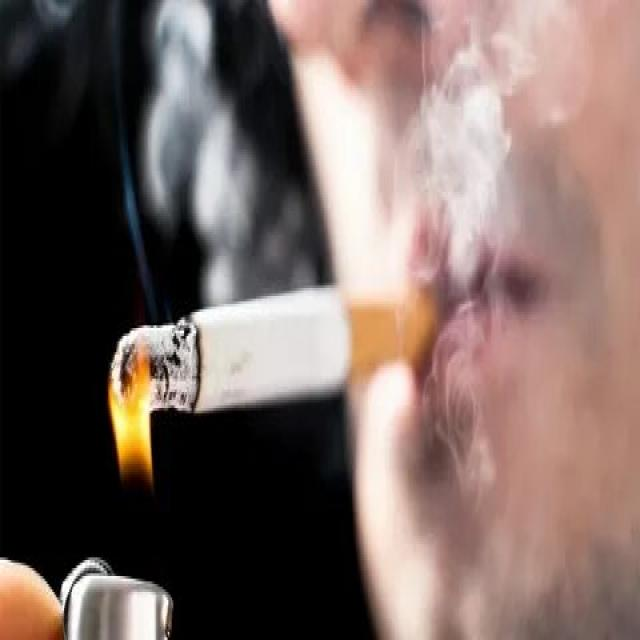smoke: (101, 259, 440, 448)
